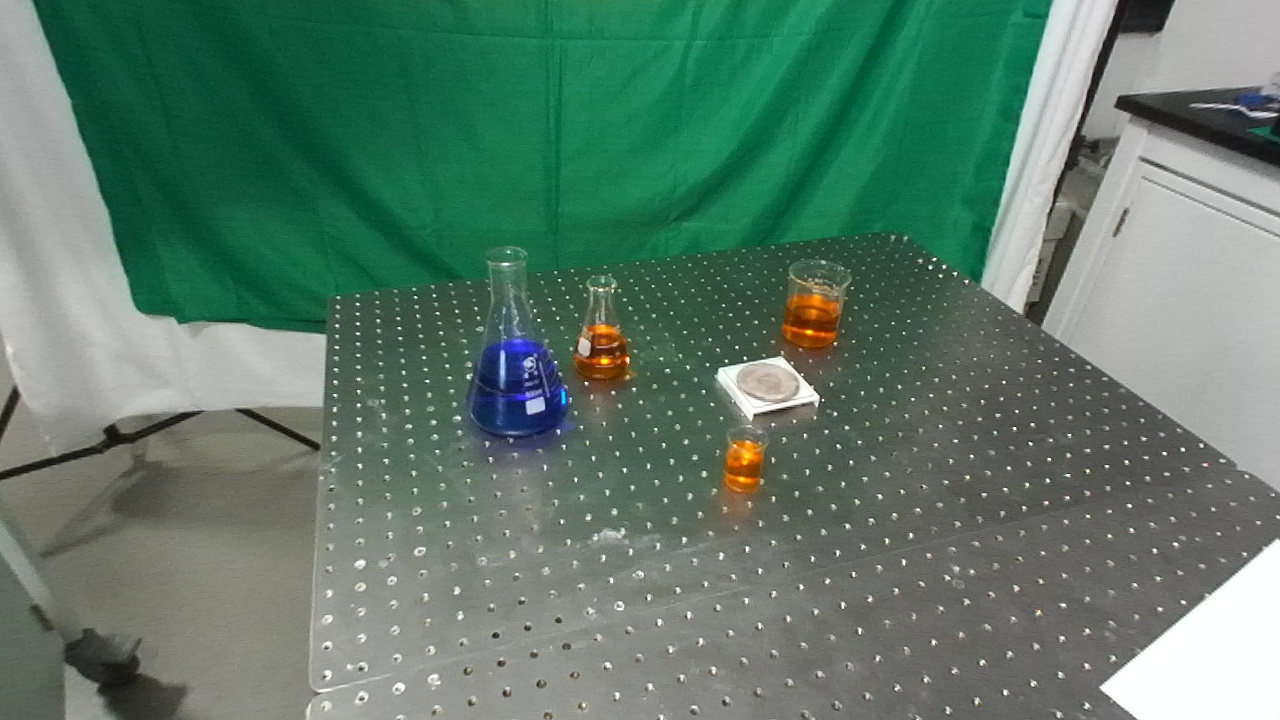glass: (458, 243, 573, 440), (571, 273, 630, 382), (784, 257, 849, 351), (723, 425, 769, 495)
plate: (717, 353, 821, 423)
